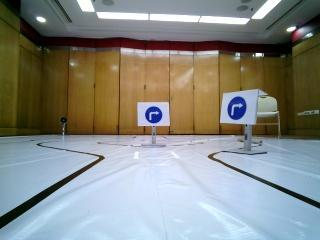right: (222, 89, 253, 122), (136, 101, 169, 127)
